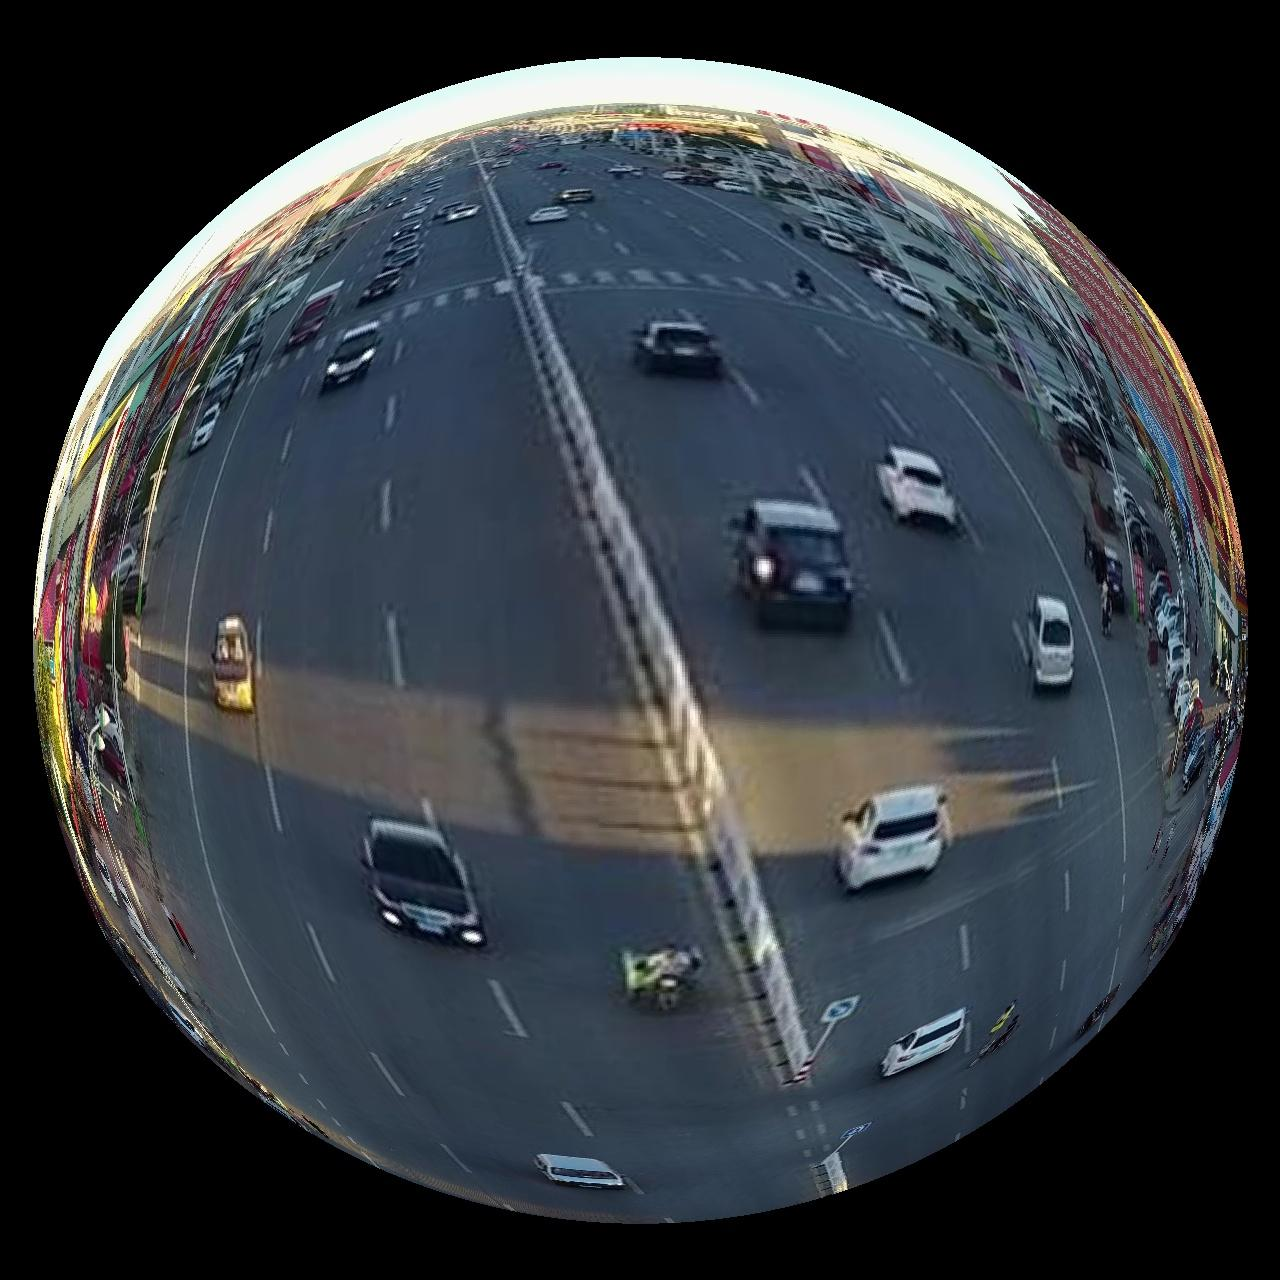building: (1004, 174, 1243, 580)
cars: (360, 818, 486, 948), (738, 499, 854, 628), (838, 785, 954, 892), (878, 445, 959, 526), (882, 1010, 969, 1078), (1026, 594, 1077, 692), (636, 320, 723, 376), (320, 320, 381, 392), (210, 615, 254, 712), (535, 1155, 627, 1192), (187, 402, 219, 452)
